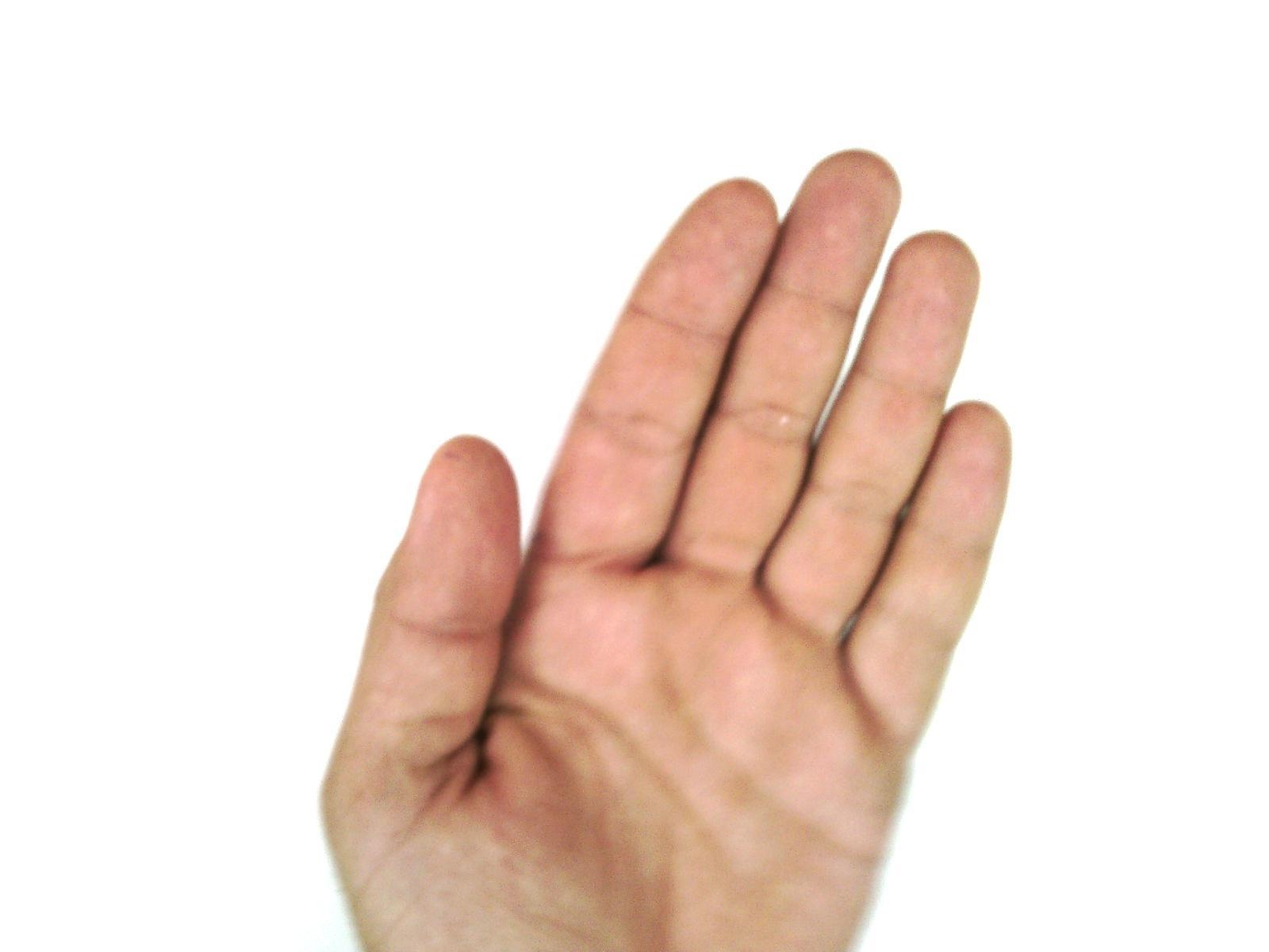open_palm: (316, 148, 1015, 952)
